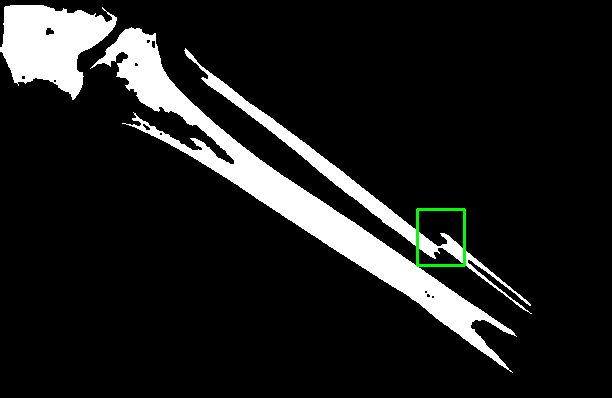fracture: (417, 209, 464, 266)
